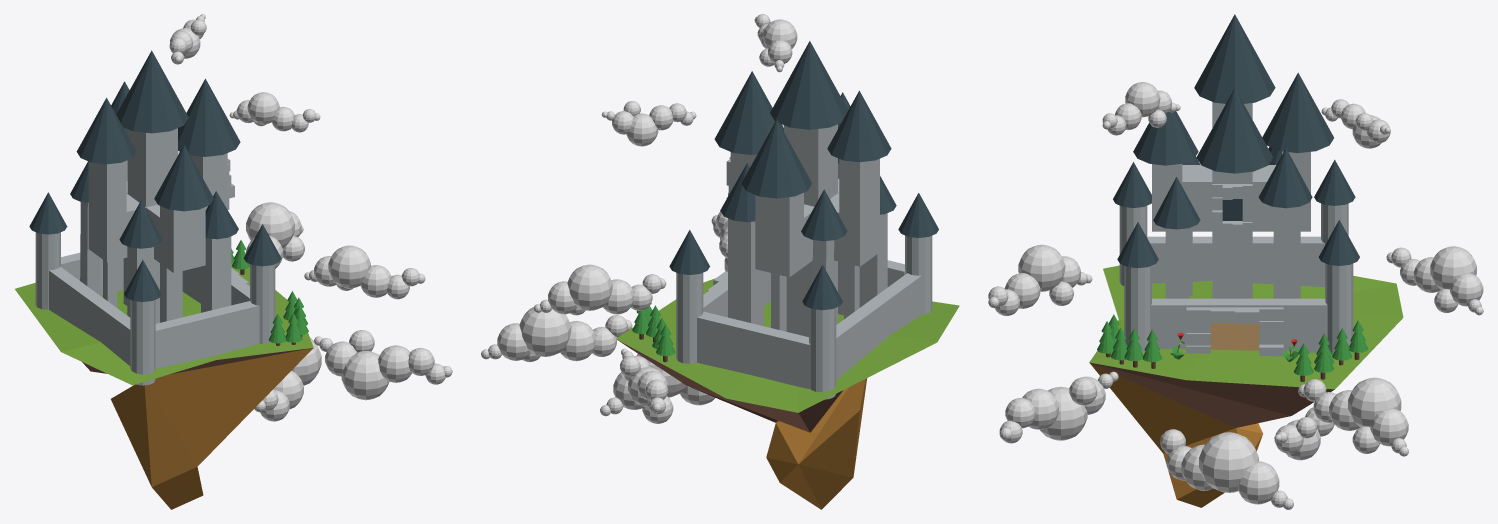
3 views of the same model, side by side, from view 1: azimuth 30°, elevation 25°; view 2: azimuth 150°, elevation 25°; view 3: azimuth 270°, elevation 25° (orthographic). The views are drawn at different scales.
Parts seen in each view (by area): view 1: node_MeshObject1085095104-PolyPaper21, node_MeshObject-1630036416-PolyPaper21, node_MeshObject2133486400-PolyPaper21, node_MeshObject432119424-PolyPaper21; view 2: node_MeshObject1085095104-PolyPaper21, node_MeshObject432119424-PolyPaper21, node_MeshObject2133486400-PolyPaper21, node_MeshObject-1630036416-PolyPaper21; view 3: node_MeshObject1085095104-PolyPaper21, node_MeshObject432119424-PolyPaper21, node_MeshObject2133486400-PolyPaper21, node_MeshObject-1630036416-PolyPaper21.
Boxes of the visible parts, x1=… form: node_MeshObject1085095104-PolyPaper21: x1=15, y1=19, x2=313, y2=509; node_MeshObject-1630036416-PolyPaper21: x1=169, y1=14, x2=425, y2=299; node_MeshObject2133486400-PolyPaper21: x1=178, y1=151, x2=434, y2=421; node_MeshObject432119424-PolyPaper21: x1=246, y1=202, x2=452, y2=385; node_MeshObject1085095104-PolyPaper21: x1=533, y1=41, x2=959, y2=509; node_MeshObject432119424-PolyPaper21: x1=481, y1=215, x2=727, y2=416; node_MeshObject2133486400-PolyPaper21: x1=570, y1=211, x2=727, y2=423; node_MeshObject-1630036416-PolyPaper21: x1=601, y1=14, x2=797, y2=146; node_MeshObject1085095104-PolyPaper21: x1=1089, y1=14, x2=1483, y2=507; node_MeshObject432119424-PolyPaper21: x1=999, y1=377, x2=1408, y2=509; node_MeshObject2133486400-PolyPaper21: x1=1005, y1=247, x2=1457, y2=507; node_MeshObject-1630036416-PolyPaper21: x1=988, y1=82, x2=1390, y2=316.
Size of the model in its own units: 1.86 by 2.4 by 2.19.
